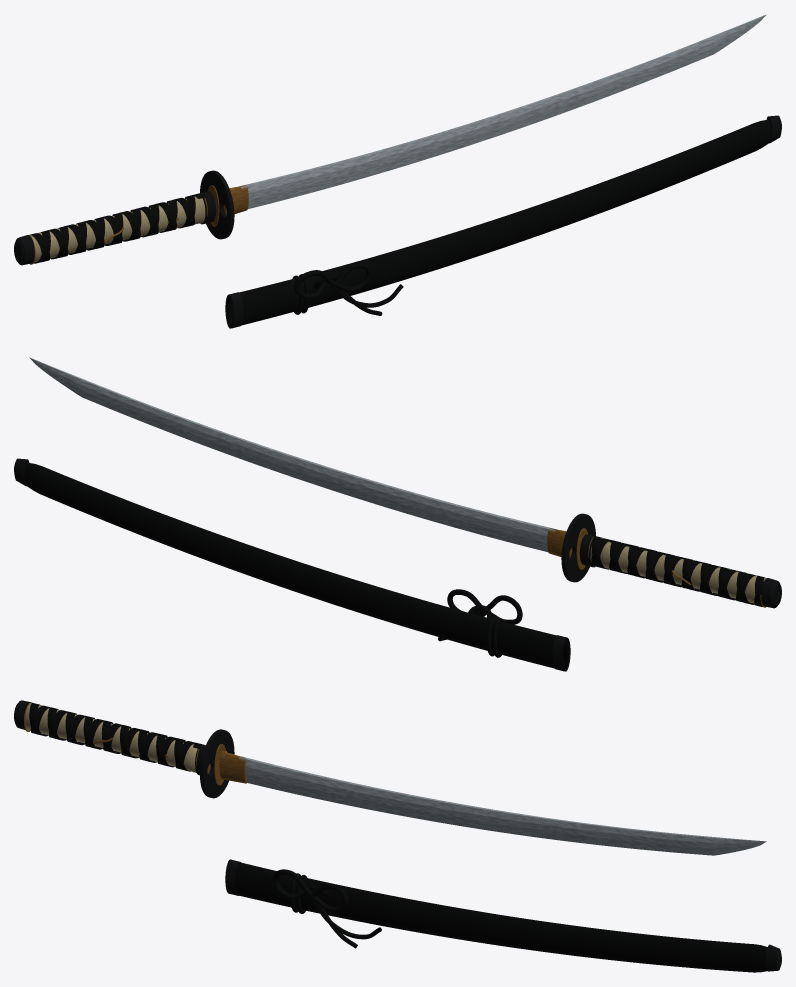
The model's file is Katana.glb.
3 views of the same model, one above another, from view 1: azimuth 30°, elevation 25°; view 2: azimuth 150°, elevation 25°; view 3: azimuth 330°, elevation 25° (orthographic).
Visible parts, largest first — view 1: Saya | hollow curved lacquer scabbard, Blade | curved shinogi ji edge mune and kissaki, Tsukamaki | clockwise silk wrap, Tsuka core | samegawa underwrap, Tsukamaki | counterclockwise silk wrap, Tsuba | oval iron guard, Sageo | tied cord loop; view 2: Saya | hollow curved lacquer scabbard, Blade | curved shinogi ji edge mune and kissaki, Tsukamaki | clockwise silk wrap, Tsuka core | samegawa underwrap, Tsuba | oval iron guard, Tsukamaki | counterclockwise silk wrap, Sageo | tied cord loop; view 3: Saya | hollow curved lacquer scabbard, Blade | curved shinogi ji edge mune and kissaki, Tsukamaki | clockwise silk wrap, Tsuka core | samegawa underwrap, Tsukamaki | counterclockwise silk wrap, Tsuba | oval iron guard, Sageo | tied cord loop, Habaki | fitted brass collar, Hamon boundary -1.
Boxes of the visible parts, left/top/right/bottom form: Saya | hollow curved lacquer scabbard: left=226, top=119, right=771, bottom=327; Blade | curved shinogi ji edge mune and kissaki: left=239, top=14, right=766, bottom=208; Tsukamaki | clockwise silk wrap: left=29, top=193, right=205, bottom=261; Tsuka core | samegawa underwrap: left=29, top=196, right=205, bottom=262; Tsukamaki | counterclockwise silk wrap: left=33, top=195, right=195, bottom=263; Tsuba | oval iron guard: left=200, top=170, right=234, bottom=239; Sageo | tied cord loop: left=294, top=263, right=371, bottom=299; Saya | hollow curved lacquer scabbard: left=24, top=462, right=569, bottom=670; Blade | curved shinogi ji edge mune and kissaki: left=29, top=357, right=556, bottom=551; Tsukamaki | clockwise silk wrap: left=592, top=536, right=765, bottom=604; Tsuka core | samegawa underwrap: left=590, top=541, right=766, bottom=603; Tsuba | oval iron guard: left=561, top=513, right=595, bottom=582; Tsukamaki | counterclockwise silk wrap: left=591, top=538, right=762, bottom=606; Sageo | tied cord loop: left=447, top=589, right=522, bottom=624; Saya | hollow curved lacquer scabbard: left=235, top=862, right=767, bottom=972; Blade | curved shinogi ji edge mune and kissaki: left=239, top=756, right=766, bottom=855; Tsukamaki | clockwise silk wrap: left=29, top=703, right=202, bottom=771; Tsuka core | samegawa underwrap: left=25, top=703, right=197, bottom=772; Tsukamaki | counterclockwise silk wrap: left=30, top=705, right=194, bottom=769; Tsuba | oval iron guard: left=200, top=729, right=234, bottom=798; Sageo | tied cord loop: left=273, top=869, right=348, bottom=912; Habaki | fitted brass collar: left=219, top=751, right=246, bottom=783; Hamon boundary -1: left=246, top=778, right=756, bottom=852.
Size of the model in its own units: 1.02 by 0.2496 by 0.072.
Materials: 7 (6 with a texture image).
